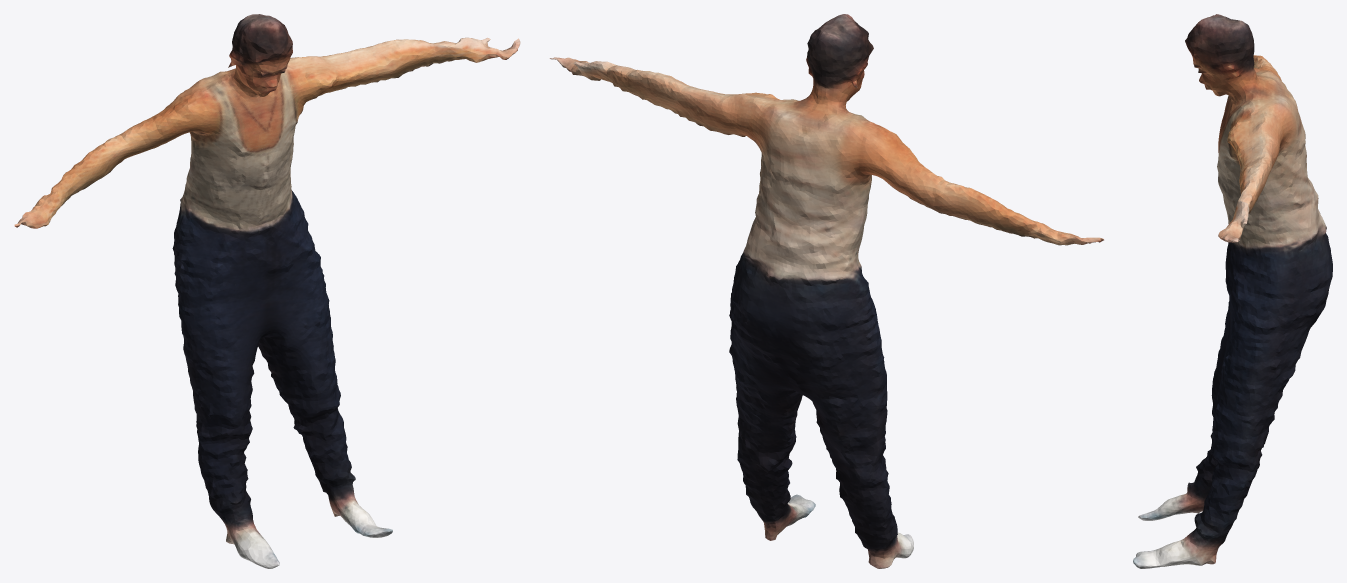
File: 0032_000_0372_00069_03_00021_gau.glb
The picture shows the model from 3 angles, left to right: view 1: azimuth 30°, elevation 25°; view 2: azimuth 150°, elevation 25°; view 3: azimuth 270°, elevation 25°; orthographic projection. The views are drawn at different scales.
Bounding box in the file's own units: 1.44 × 1.38 × 0.4834.
Materials: 1 (1 with a texture image).
